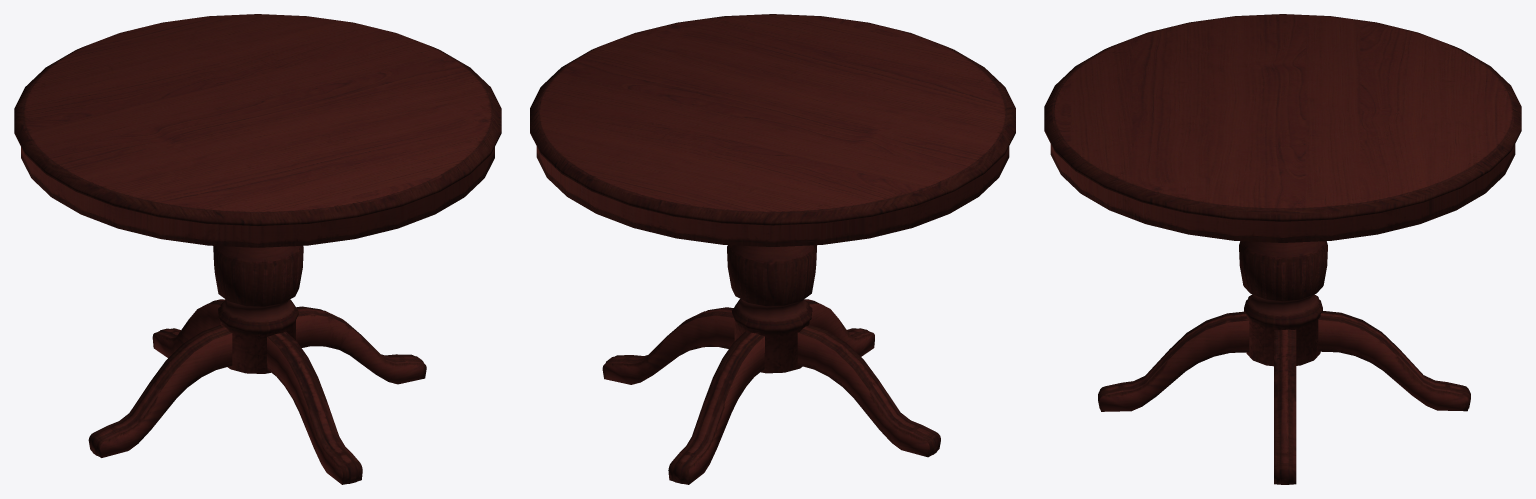
Rendered from table_1.fbx.
3 views of the same model, side by side, from view 1: azimuth 30°, elevation 25°; view 2: azimuth 150°, elevation 25°; view 3: azimuth 270°, elevation 25° (orthographic). The views are drawn at different scales.
Parts seen in each view (by area): view 1: ClassicRoundTable1; view 2: ClassicRoundTable1; view 3: ClassicRoundTable1.
Part boxes in pixels (x1,y1,x2,y2): ClassicRoundTable1: [14, 14, 501, 484]; ClassicRoundTable1: [530, 14, 1015, 484]; ClassicRoundTable1: [1044, 14, 1521, 484].
Size of the model in its own units: 118 by 80.01 by 117.
